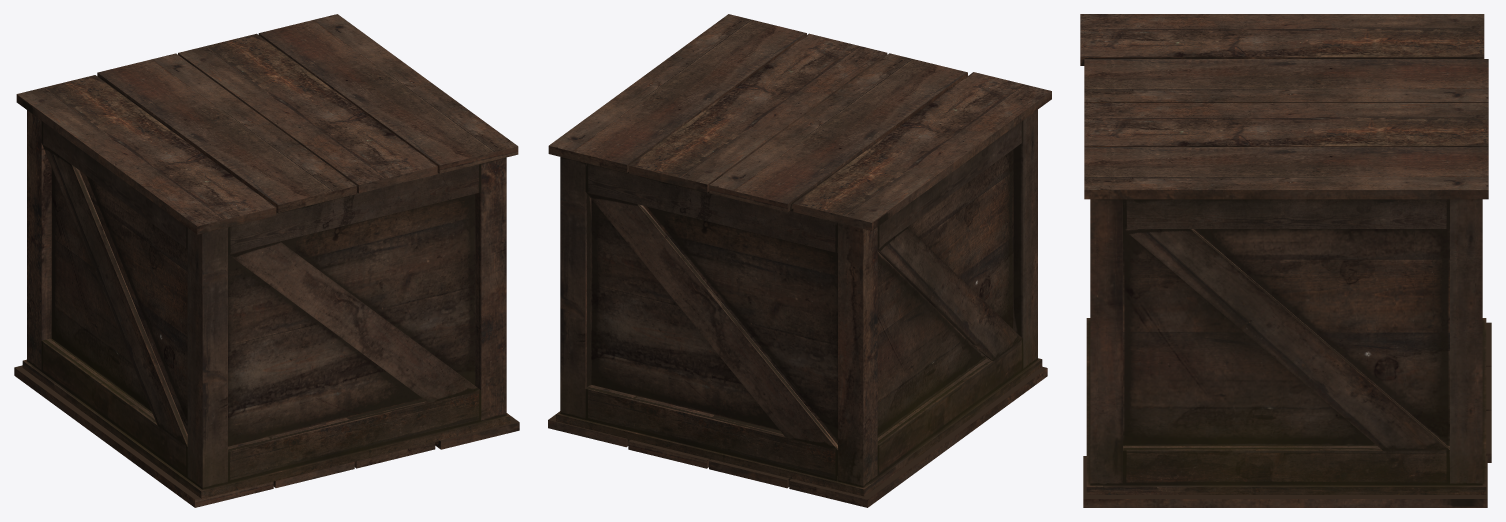
File: crate_01.fbx
The picture shows the model from 3 angles, left to right: view 1: azimuth 30°, elevation 25°; view 2: azimuth 150°, elevation 25°; view 3: azimuth 270°, elevation 25°; orthographic projection. The views are drawn at different scales.
Visible parts, largest first — view 1: crate; view 2: crate; view 3: crate.
Part boxes in pixels (left/top/right/bottom): crate: left=14, top=14, right=519, bottom=507; crate: left=548, top=14, right=1051, bottom=507; crate: left=1080, top=14, right=1491, bottom=507.
Bounding box in the file's own units: 86.97 × 85.68 × 72.92.
Materials: 1 (1 with a texture image).
